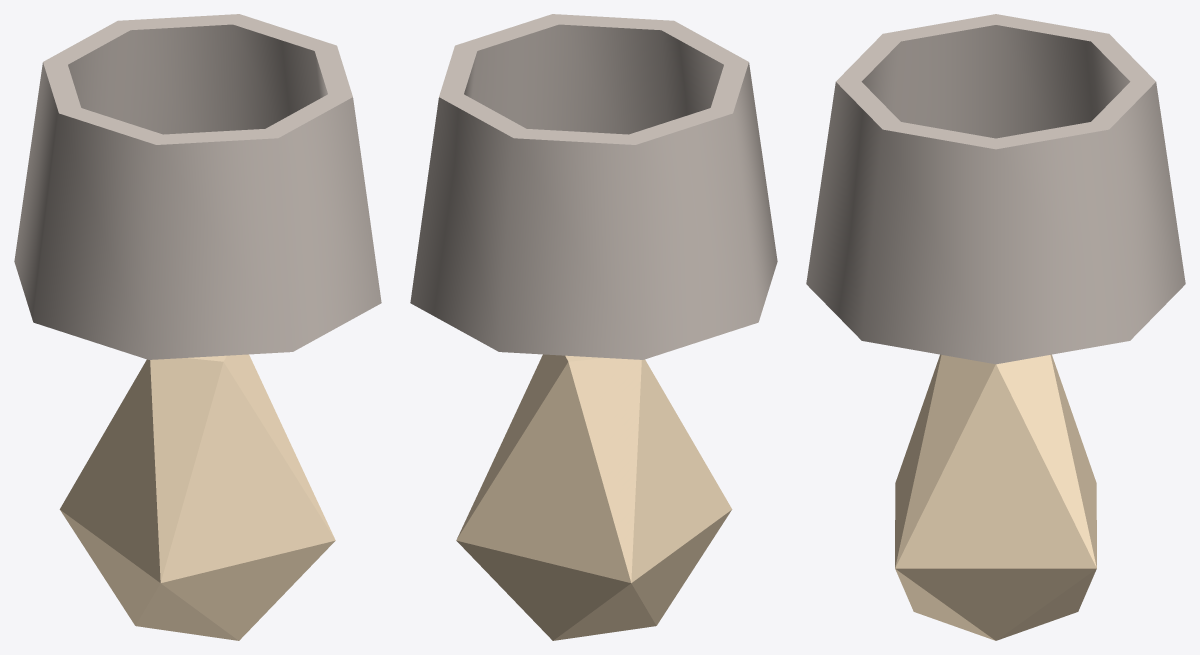
The model's file is Desk_Lamp-Hotel.fbx.
3 renders of one model, left to right at view 1: azimuth 30°, elevation 25°; view 2: azimuth 150°, elevation 25°; view 3: azimuth 270°, elevation 25°, orthographic.
Visible parts, largest first — view 1: Desk_Lamp; view 2: Desk_Lamp; view 3: Desk_Lamp.
Boxes of the visible parts, x1,y1,x2,y2 form: Desk_Lamp: [14, 14, 381, 640]; Desk_Lamp: [410, 14, 777, 640]; Desk_Lamp: [806, 14, 1185, 640].
Size of the model in its own units: 0.426 by 0.6567 by 0.426.
